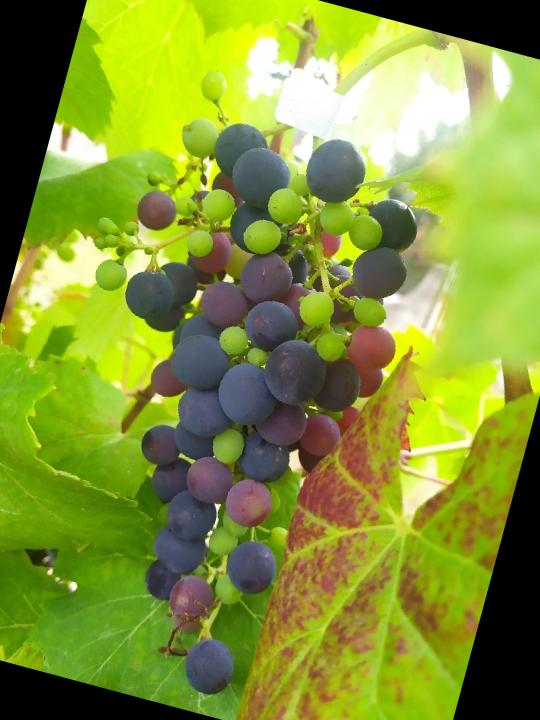grape: (0, 48, 454, 720)
